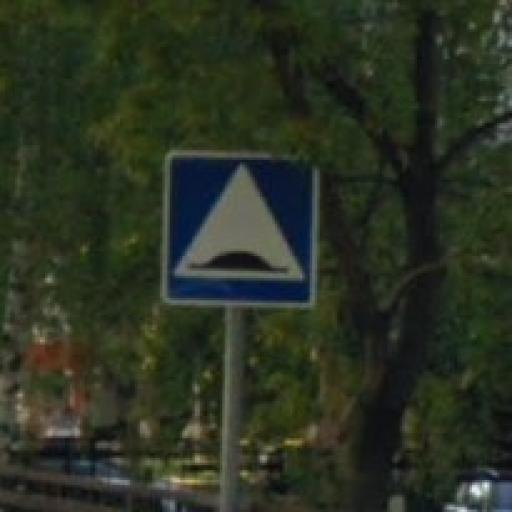traffic_sign: (161, 151, 321, 311)
